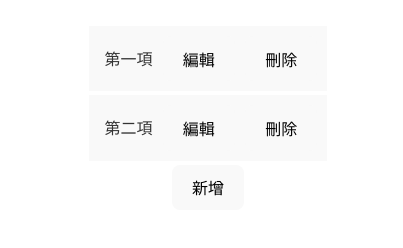
Test case: EditableList › can add a new item
Click the button with test id "editable-list-add-btn".
click(208, 187)  # box [172, 165, 244, 210]
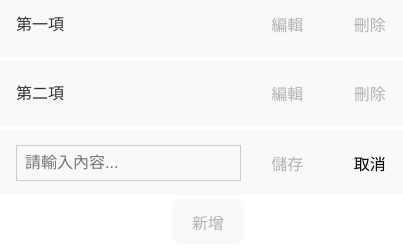
Now the field with placeholder "請輸入內容..." is shown, box [16, 145, 241, 181]
